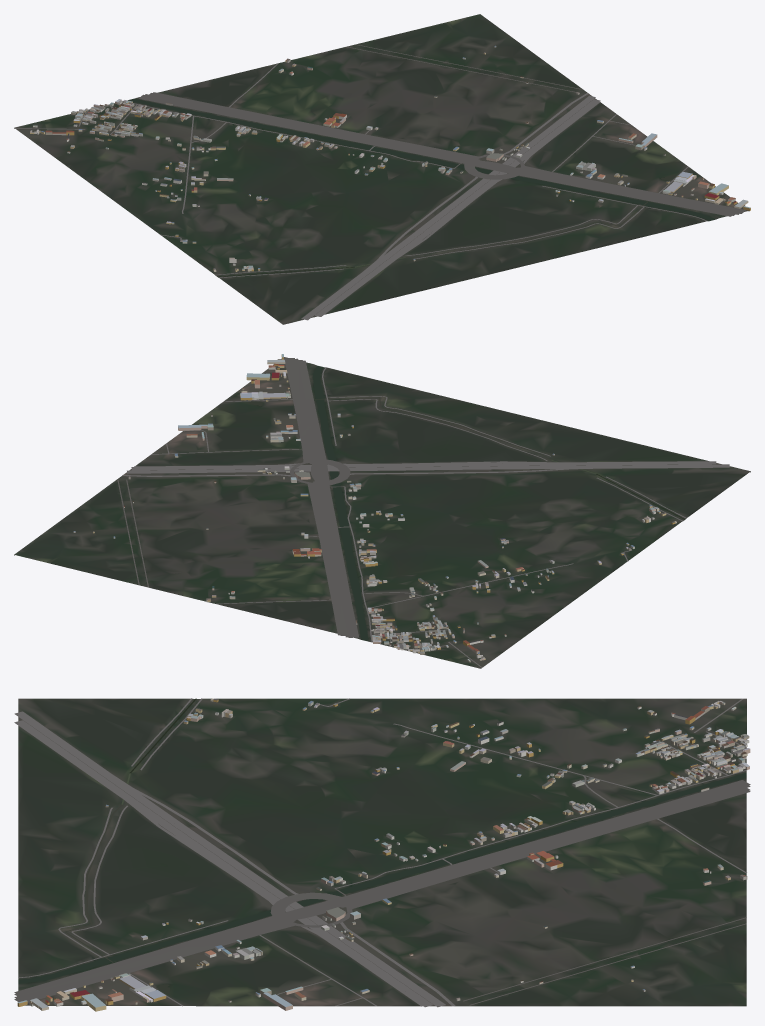
The picture shows the model from 3 angles, top to bottom: view 1: azimuth 30°, elevation 25°; view 2: azimuth 150°, elevation 25°; view 3: azimuth 270°, elevation 25°; orthographic projection. The views are drawn at different scales.
Visible parts, largest first — view 1: ground, roads, buildings, water; view 2: ground, roads, buildings, water; view 3: ground, roads, buildings, water.
Boxes of the visible parts, x1,y1,x2,y2 form: ground: (14, 14, 749, 324); roads: (15, 44, 745, 320); buildings: (30, 45, 750, 271); water: (128, 98, 714, 276); ground: (14, 357, 750, 668); roads: (117, 358, 729, 667); buildings: (73, 354, 676, 662); water: (247, 365, 684, 640); ground: (18, 698, 746, 1006); roads: (14, 698, 750, 1007); buildings: (17, 698, 750, 1011); water: (18, 698, 746, 993).
Size of the model in its own units: 1425 by 14.55 by 1417.
